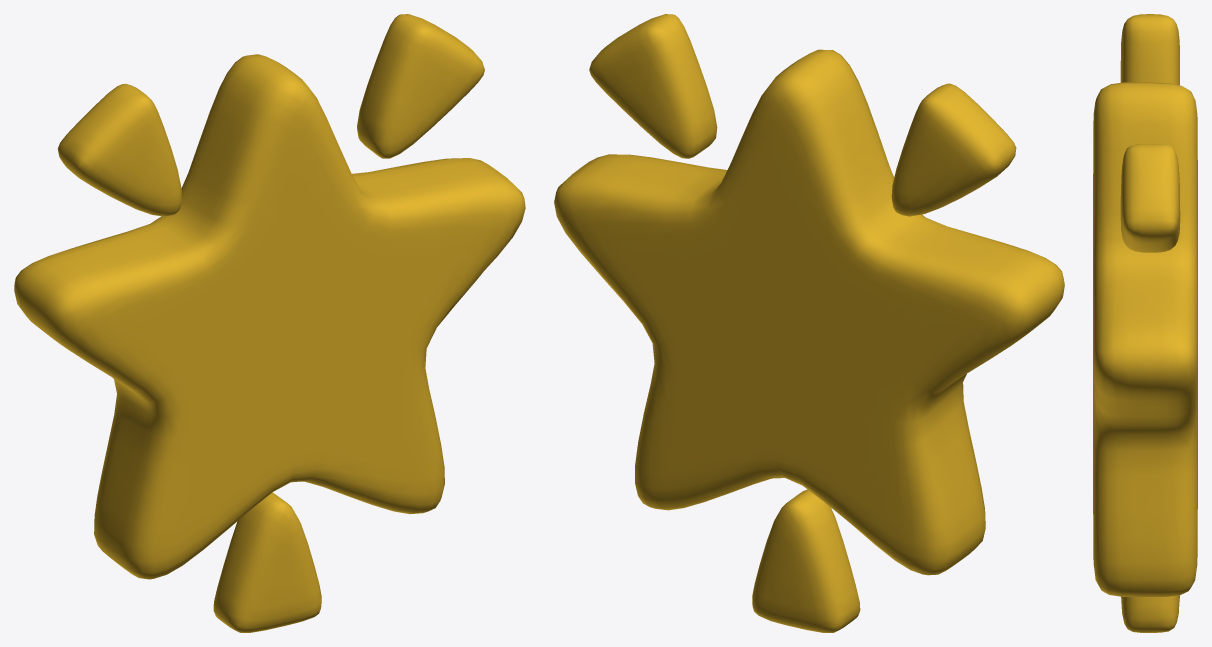
Rendered from star with points FBX.glb.
3 views of the same model, side by side, from view 1: azimuth 30°, elevation 25°; view 2: azimuth 150°, elevation 25°; view 3: azimuth 270°, elevation 25° (orthographic). The views are drawn at different scales.
Parts seen in each view (by area): view 1: Group30219, Group2, ZBrush_defualt_group, Group1; view 2: Group30219, Group2, ZBrush_defualt_group, Group1; view 3: Group30219, Group2, Group1, ZBrush_defualt_group.
Boxes of the visible parts, left/top/right/bottom form: Group30219: left=14, top=54, right=525, bottom=579; Group2: left=357, top=14, right=484, bottom=158; ZBrush_defualt_group: left=213, top=492, right=321, bottom=632; Group1: left=57, top=83, right=181, bottom=216; Group30219: left=554, top=49, right=1064, bottom=575; Group2: left=589, top=14, right=717, bottom=158; ZBrush_defualt_group: left=752, top=489, right=860, bottom=632; Group1: left=891, top=83, right=1016, bottom=216; Group30219: left=1093, top=82, right=1197, bottom=596; Group2: left=1120, top=144, right=1180, bottom=252; Group1: left=1120, top=14, right=1179, bottom=85; ZBrush_defualt_group: left=1121, top=595, right=1179, bottom=632.
Bounding box in the file's own units: 0.4153 × 0.4715 × 0.0826.
